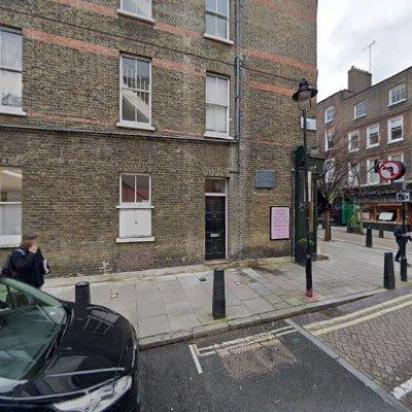stationary-car-onstreet: (0, 274, 148, 412)
